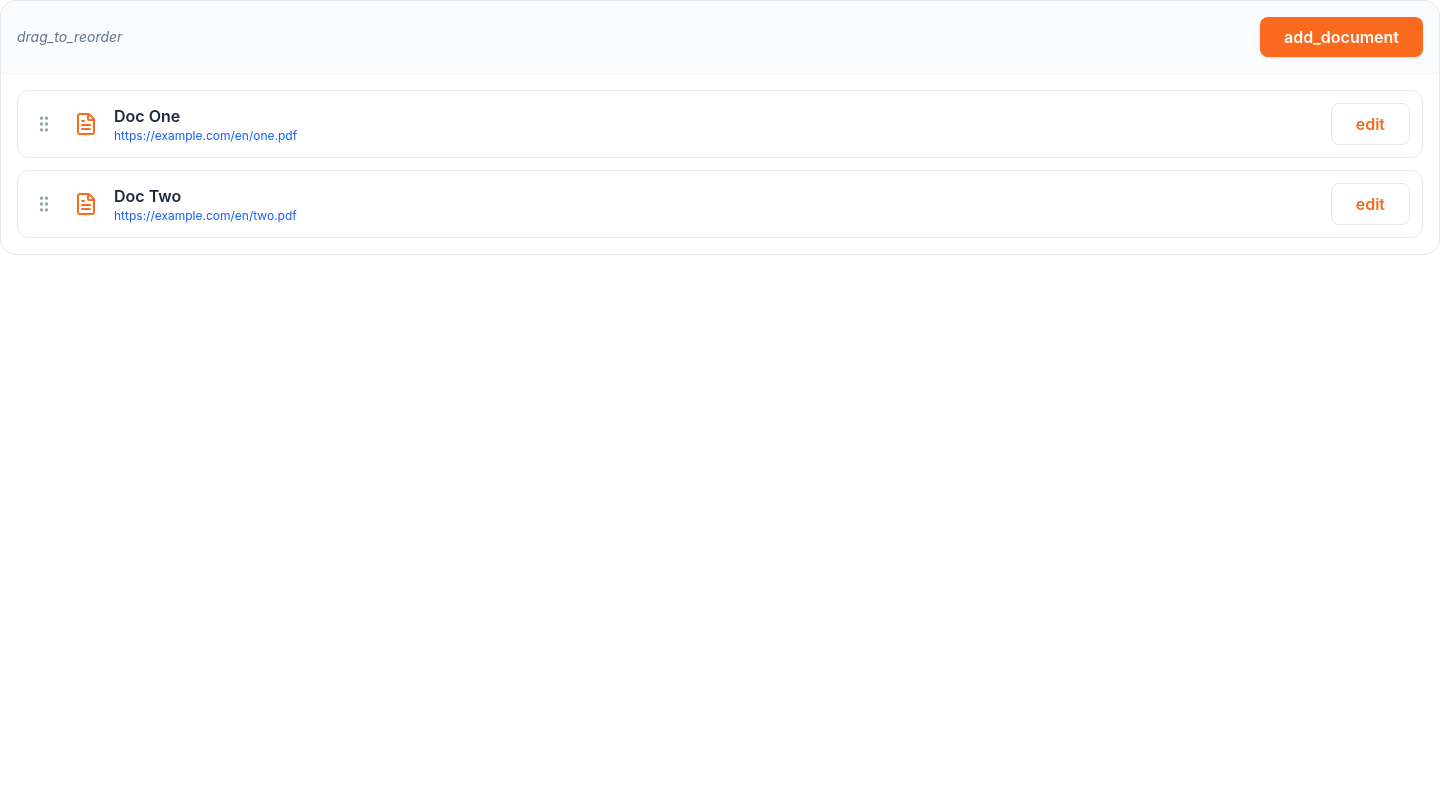
Test: ManageRegistrationDocumentsDatatable › opens the edit modal pre-filled for the clicked document
This screenshot has width=1440, height=810.
Expected: the heading "Doc One" is shown, [114,106,180,126]
Click the button "edit" in the row of "https://example.com/en/one.pdf" at (1370, 124), box [1331,103,1410,145]
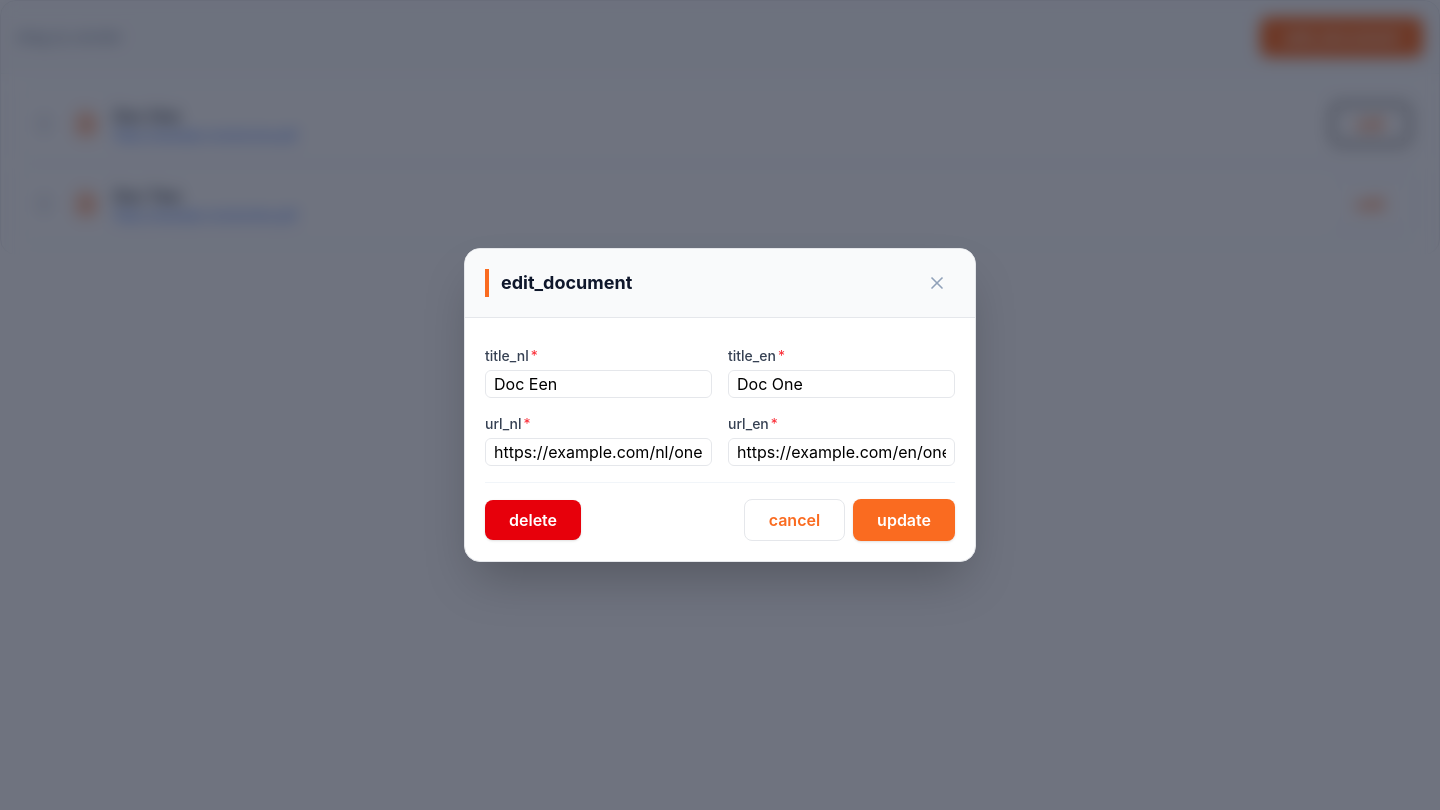
Result: the heading "edit_document" is shown at [485,269,632,297]
Result: the button "update" is shown at [853,499,955,541]
